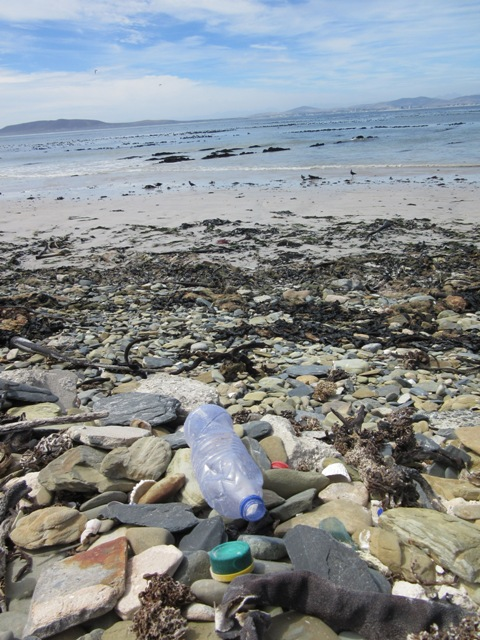trash: (168, 377, 295, 618)
